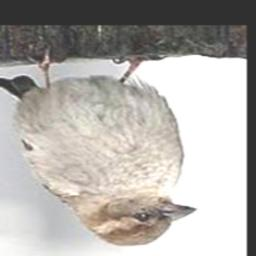Sparrow: (0, 46, 197, 248)
